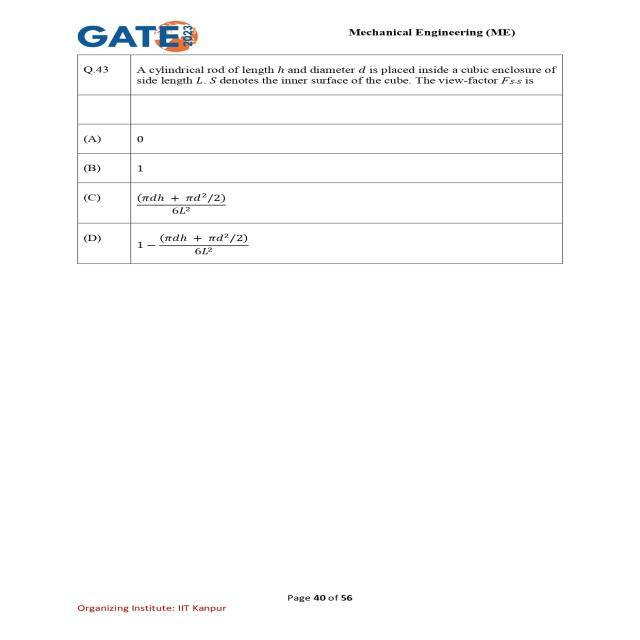Answer_Block: (49, 120, 586, 282)
Question_Answer_Block: (49, 52, 586, 282)
Question_Block: (49, 52, 586, 102)
Question_Paper_Area: (49, 52, 586, 482)
